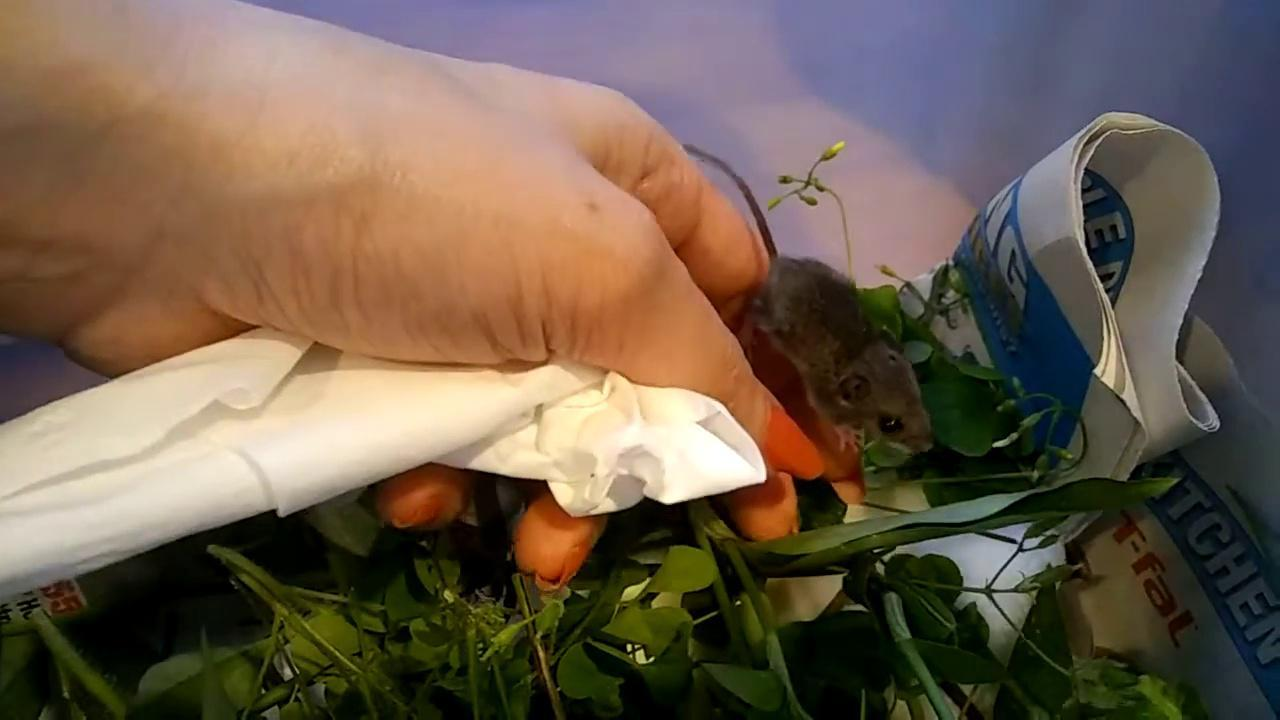rat: (682, 139, 932, 452)
